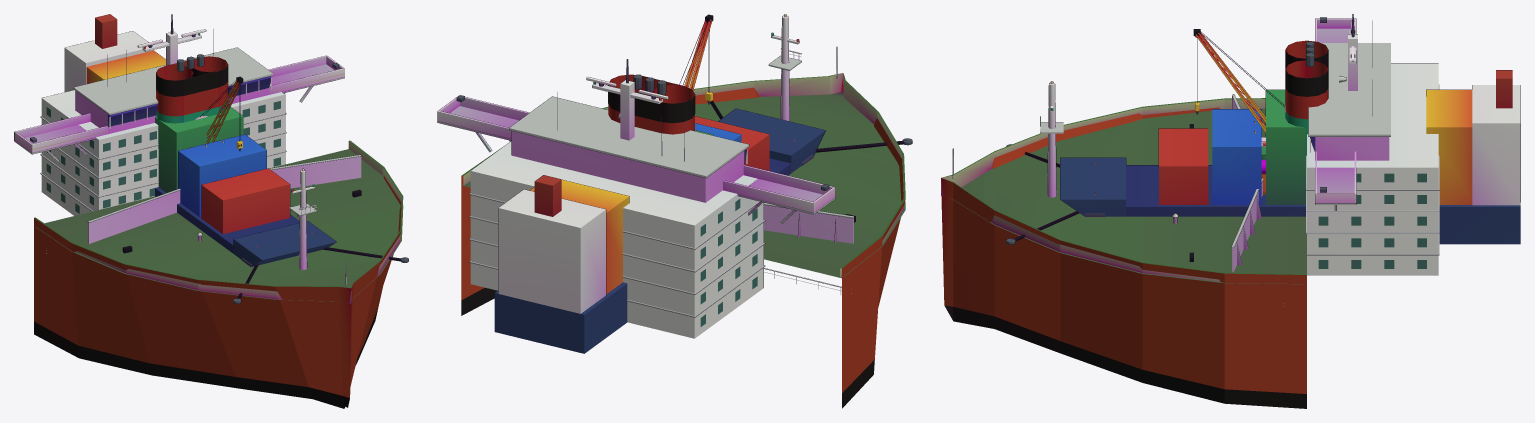
The model's file is fps-kit-cargoship.glb.
The picture shows the model from 3 angles, left to right: view 1: azimuth 30°, elevation 25°; view 2: azimuth 150°, elevation 25°; view 3: azimuth 270°, elevation 25°; orthographic projection. The views are drawn at different scales.
Parts seen in each view (by area): view 1: KIT_CARGOSHIP_Backdrop_Forecastle, KIT_CARGOSHIP_Backdrop_Deckhouse, KIT_CARGOSHIP_Backdrop_Feeder, KIT_CARGOSHIP_Backdrop_Funnel, KIT_CARGOSHIP_Landmark_CraneJib; view 2: KIT_CARGOSHIP_Backdrop_Deckhouse, KIT_CARGOSHIP_Backdrop_Forecastle, KIT_CARGOSHIP_Backdrop_Feeder, KIT_CARGOSHIP_Backdrop_Funnel, KIT_CARGOSHIP_Landmark_CraneJib; view 3: KIT_CARGOSHIP_Backdrop_Forecastle, KIT_CARGOSHIP_Backdrop_Feeder, KIT_CARGOSHIP_Backdrop_Deckhouse, KIT_CARGOSHIP_Backdrop_Funnel, KIT_CARGOSHIP_Landmark_CraneJib.
Part boxes in pixels (left/top/right/bottom): KIT_CARGOSHIP_Backdrop_Forecastle: left=34, top=140, right=408, bottom=408; KIT_CARGOSHIP_Backdrop_Deckhouse: left=14, top=14, right=344, bottom=253; KIT_CARGOSHIP_Backdrop_Feeder: left=64, top=14, right=336, bottom=266; KIT_CARGOSHIP_Backdrop_Funnel: left=156, top=54, right=228, bottom=148; KIT_CARGOSHIP_Landmark_CraneJib: left=200, top=76, right=243, bottom=151; KIT_CARGOSHIP_Backdrop_Deckhouse: left=437, top=59, right=852, bottom=338; KIT_CARGOSHIP_Backdrop_Forecastle: left=461, top=14, right=912, bottom=408; KIT_CARGOSHIP_Backdrop_Feeder: left=494, top=108, right=825, bottom=353; KIT_CARGOSHIP_Backdrop_Funnel: left=608, top=74, right=695, bottom=134; KIT_CARGOSHIP_Landmark_CraneJib: left=679, top=14, right=713, bottom=104; KIT_CARGOSHIP_Backdrop_Forecastle: left=941, top=81, right=1306, bottom=408; KIT_CARGOSHIP_Backdrop_Feeder: left=1060, top=70, right=1520, bottom=244; KIT_CARGOSHIP_Backdrop_Deckhouse: left=1283, top=14, right=1439, bottom=306; KIT_CARGOSHIP_Backdrop_Funnel: left=1285, top=40, right=1328, bottom=155; KIT_CARGOSHIP_Landmark_CraneJib: left=1193, top=29, right=1284, bottom=132.
Bounding box in the file's own units: 51 × 41.07 × 70.52.
Materials: 1 (1 with a texture image).
